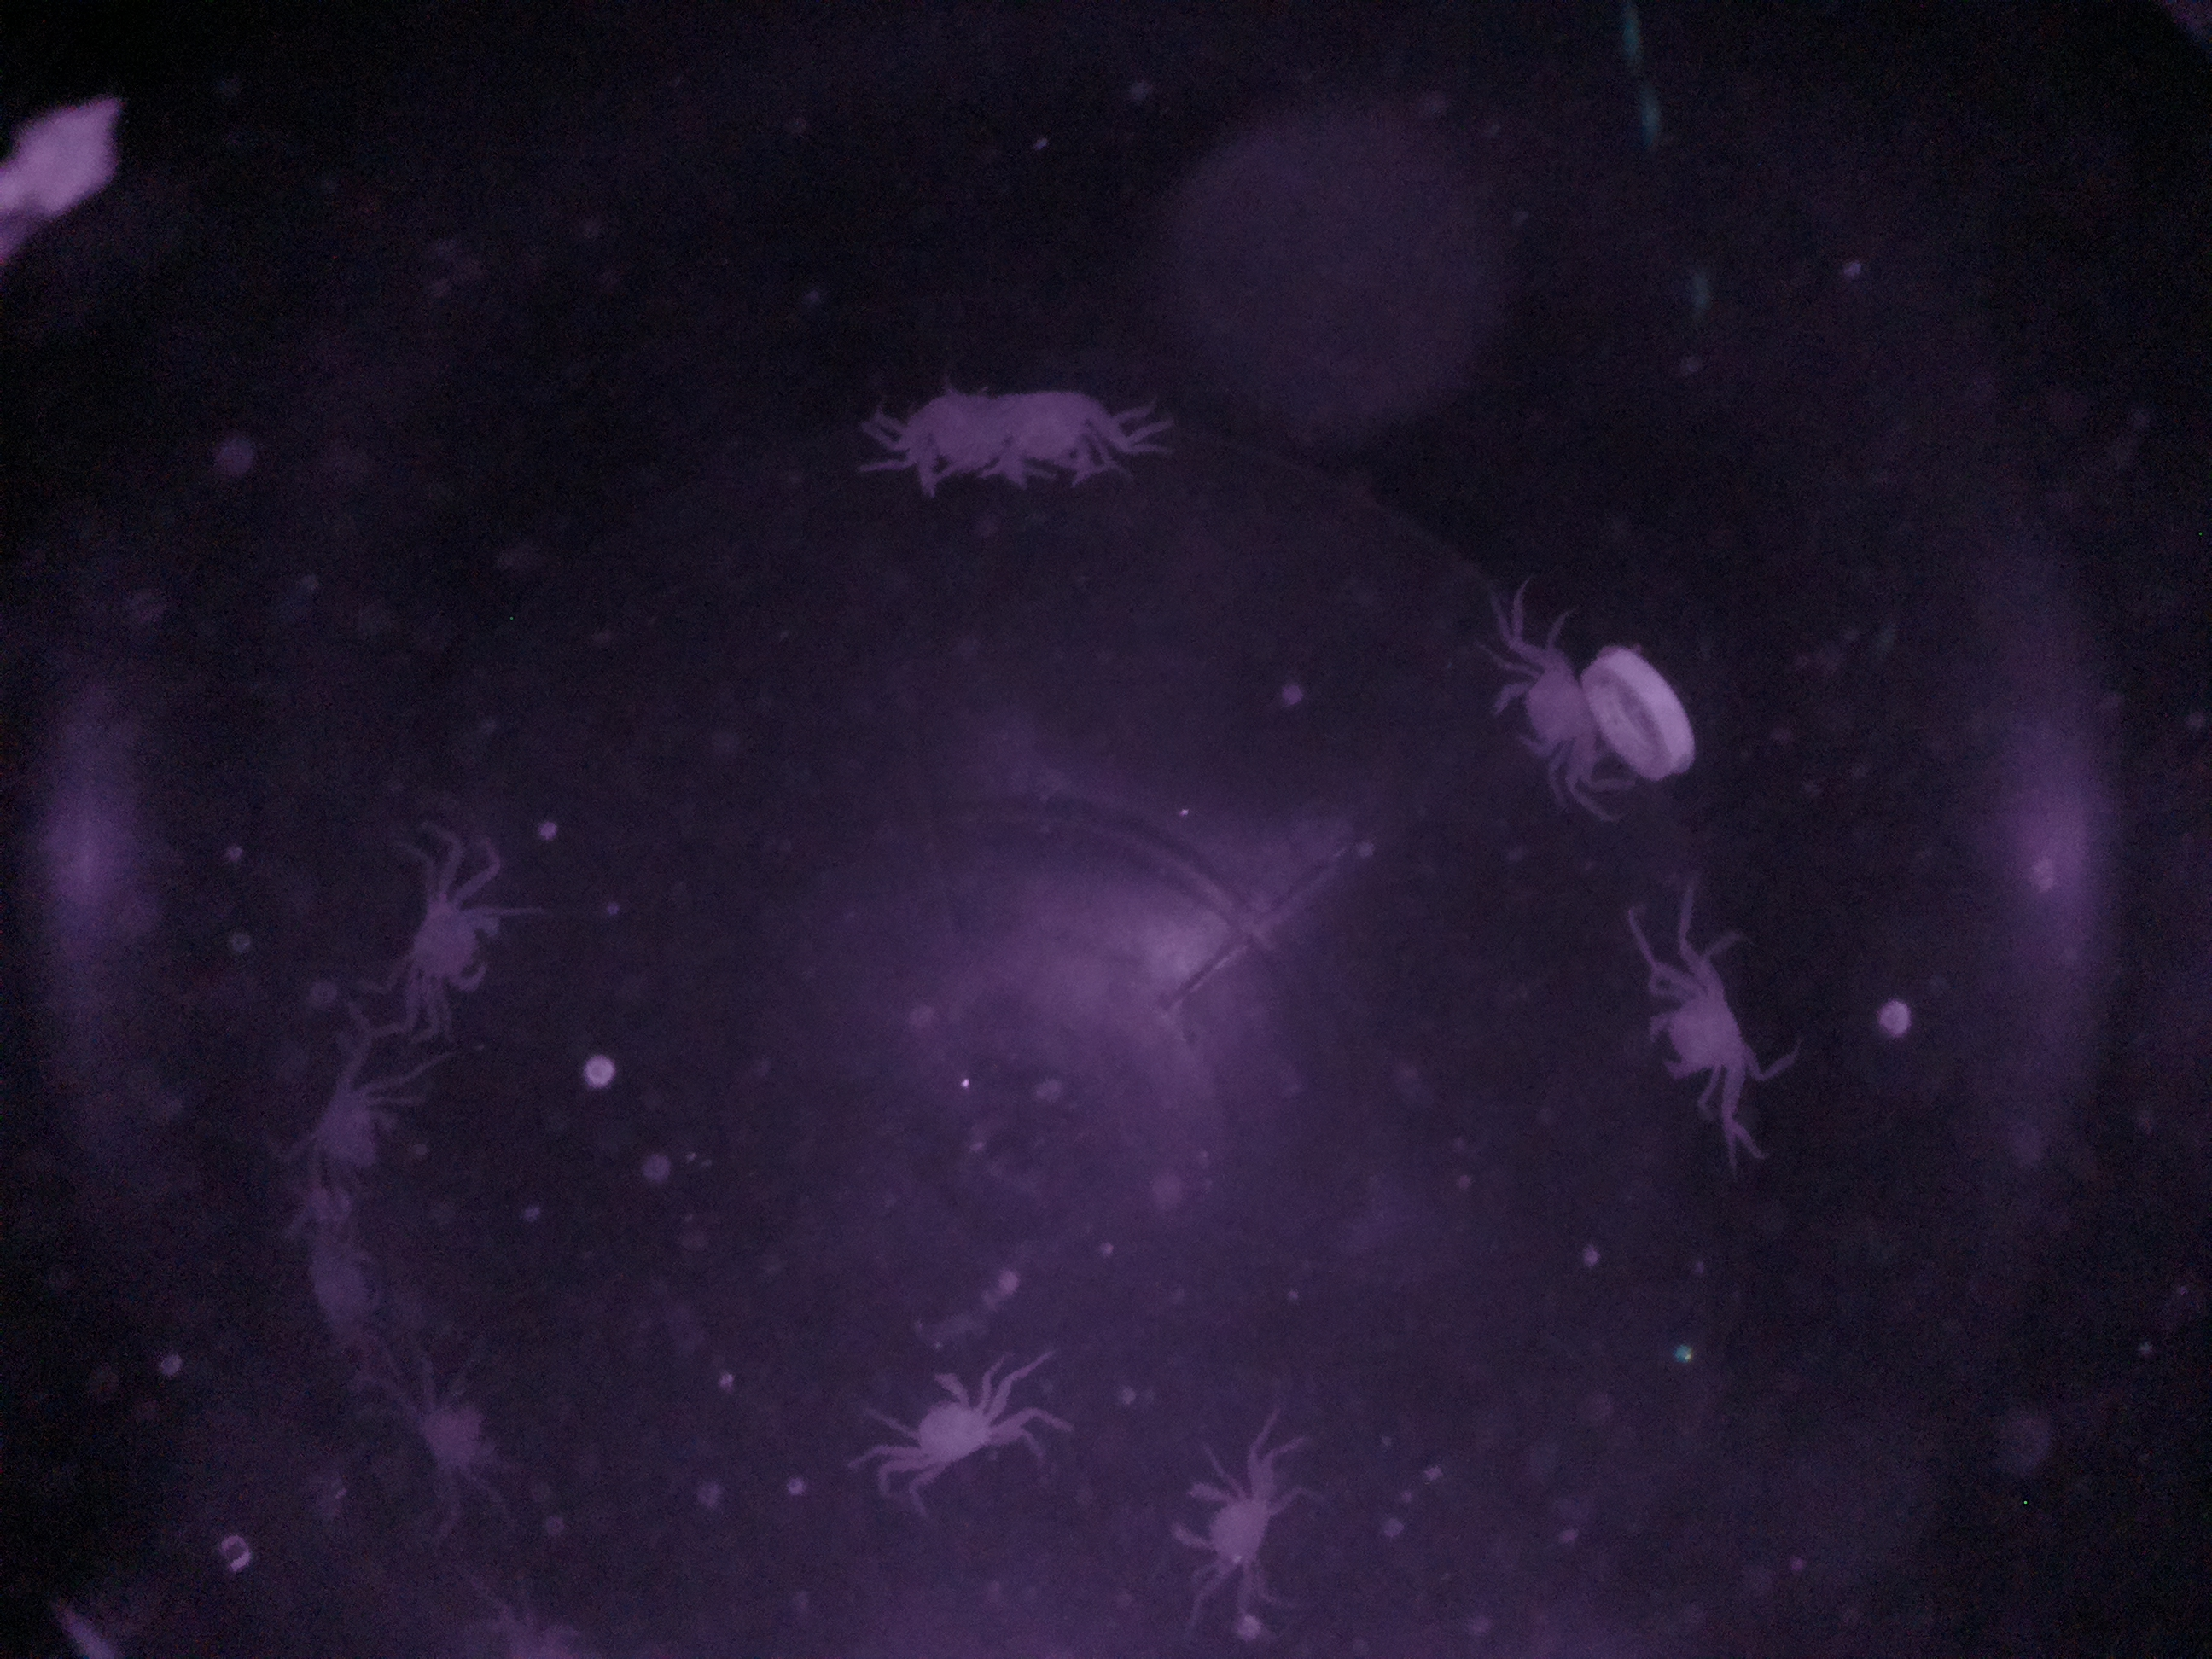Crab: (1615, 927, 1792, 1143), (857, 1337, 1038, 1513), (1472, 622, 1635, 802), (366, 873, 528, 1032), (1155, 1441, 1318, 1598)
